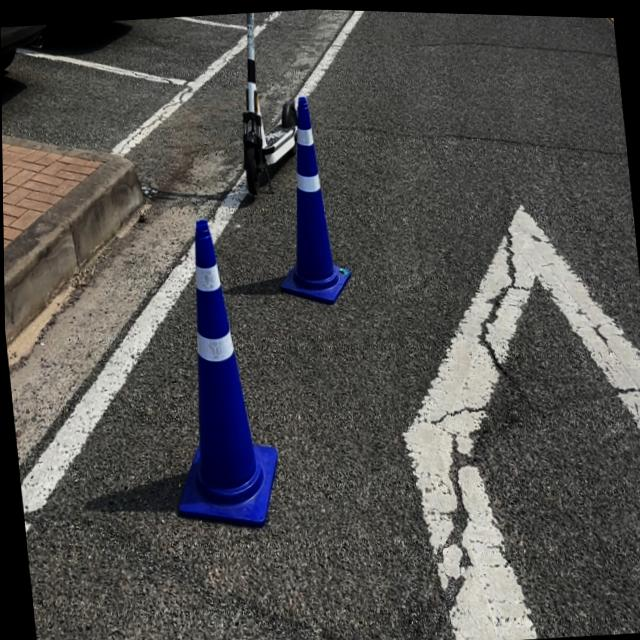b_rub: (177, 217, 275, 524), (280, 89, 350, 300)
